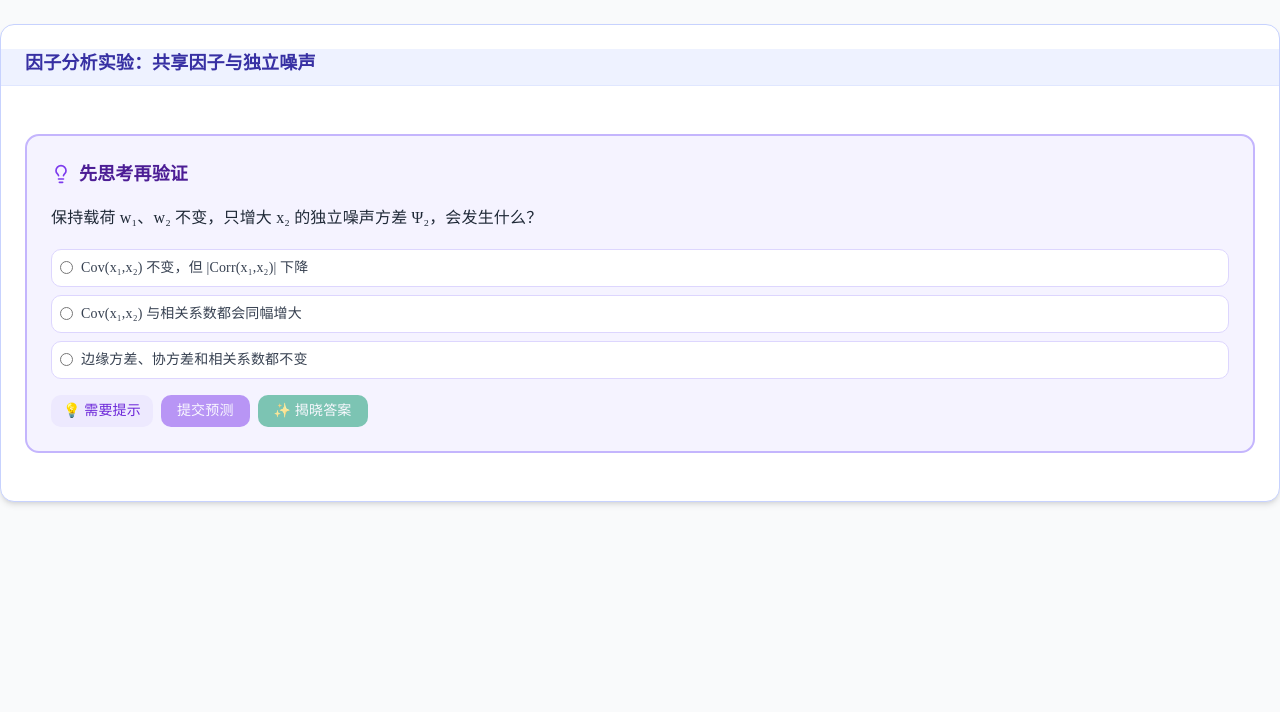
Test case: chapter 13 continuous latent variables teaching-ready loop › gates the probabilistic lab until a prediction is submitted
This screenshot has width=1280, height=712.
Click the radio button labelled "Cov(x₁,x₂) 不变，但 |Corr(x₁,x₂)| 下降" at (66, 268), box top-left (60, 261), bottom-right (73, 274)
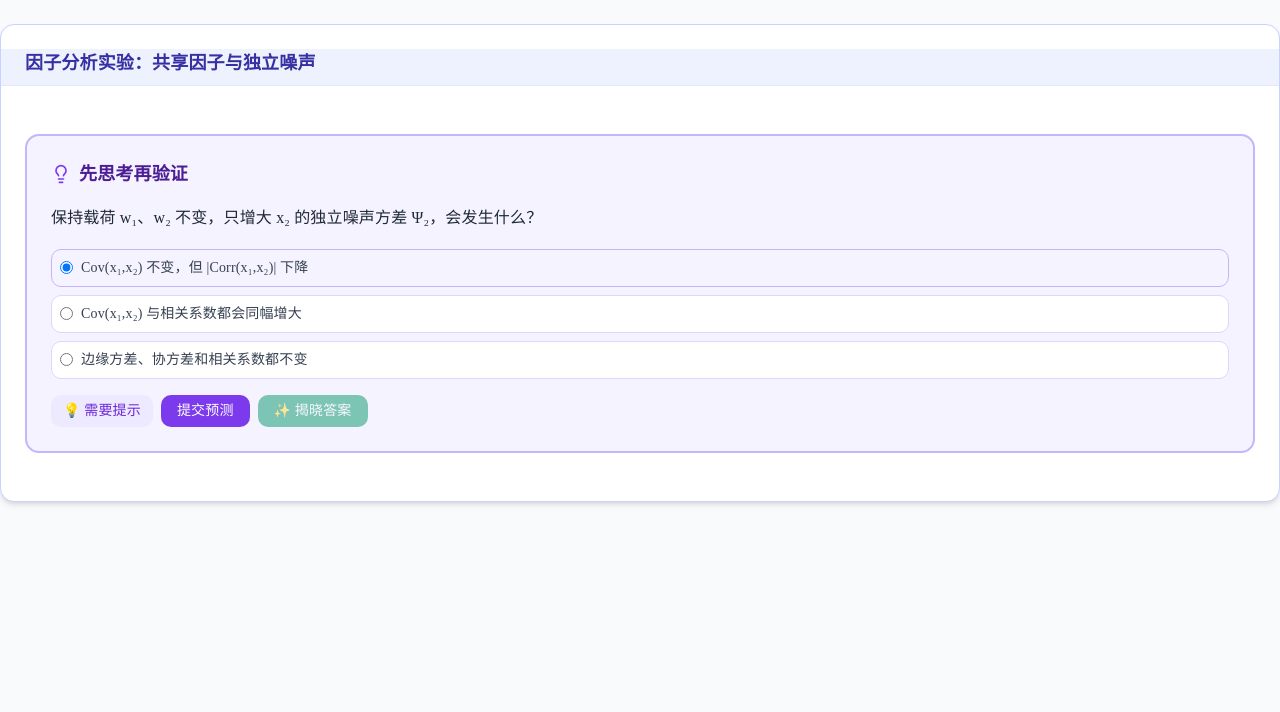
Click the button "提交预测" at (205, 411), box top-left (161, 395), bottom-right (250, 427)
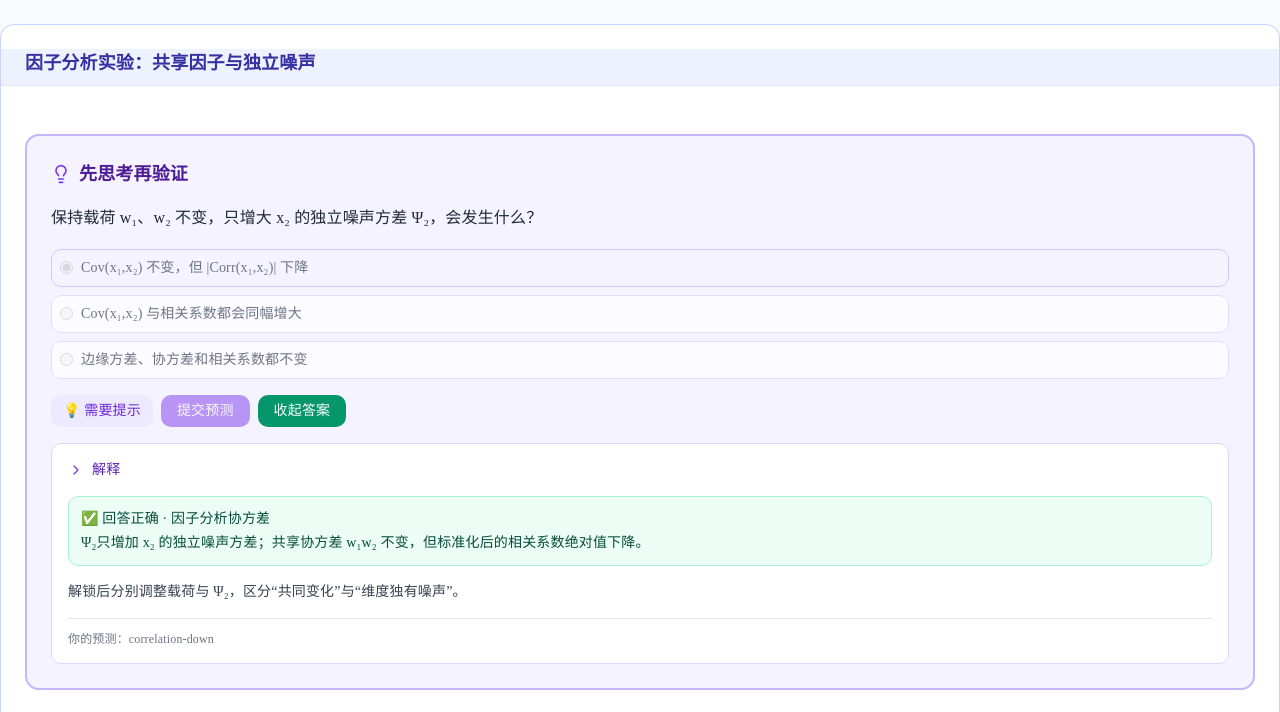
Now the element with test id "evaluation-feedback" shows "回答正确", box top-left (81, 511), bottom-right (159, 526)
